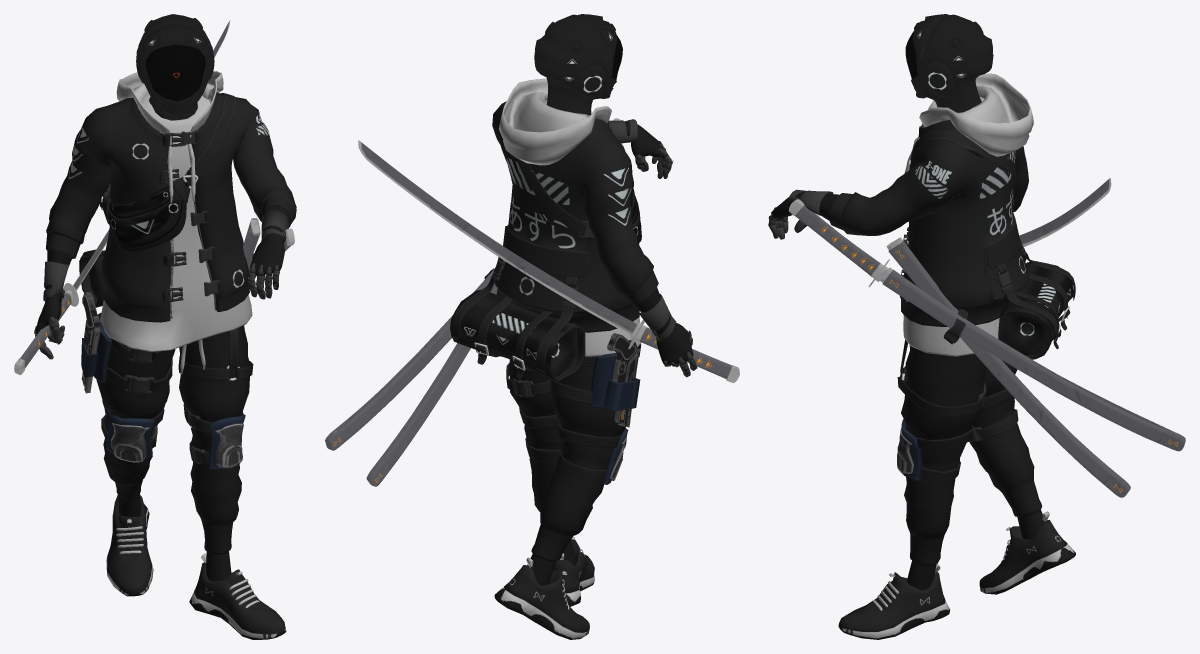
Rendered from cyberpunk_azura-transformed.glb.
The picture shows the model from 3 angles, left to right: view 1: azimuth 30°, elevation 25°; view 2: azimuth 150°, elevation 25°; view 3: azimuth 270°, elevation 25°; orthographic projection.
Visible parts, largest first — view 1: Body.001_Body_0, Body.001_Other_0, Body.001_Head_0, Body.001_Weapon_0; view 2: Body.001_Body_0, Body.001_Other_0, Body.001_Weapon_0, Body.001_Head_0; view 3: Body.001_Body_0, Body.001_Weapon_0, Body.001_Other_0, Body.001_Head_0.
Part boxes in pixels (x1=…): Body.001_Body_0: x1=34, y1=71, x2=296, y2=639; Body.001_Other_0: x1=79, y1=93, x2=256, y2=469; Body.001_Head_0: x1=136, y1=14, x2=214, y2=120; Body.001_Weapon_0: x1=14, y1=20, x2=294, y2=393; Body.001_Body_0: x1=492, y1=78, x2=697, y2=639; Body.001_Other_0: x1=450, y1=122, x2=641, y2=484; Body.001_Weapon_0: x1=325, y1=118, x2=739, y2=486; Body.001_Head_0: x1=534, y1=14, x2=622, y2=115; Body.001_Body_0: x1=768, y1=73, x2=1075, y2=639; Body.001_Weapon_0: x1=788, y1=178, x2=1185, y2=497; Body.001_Other_0: x1=897, y1=124, x2=1075, y2=483; Body.001_Head_0: x1=905, y1=14, x2=993, y2=112.
Size of the model in its own units: 1 by 1.93 by 1.23.
4 materials, 4 textured.
